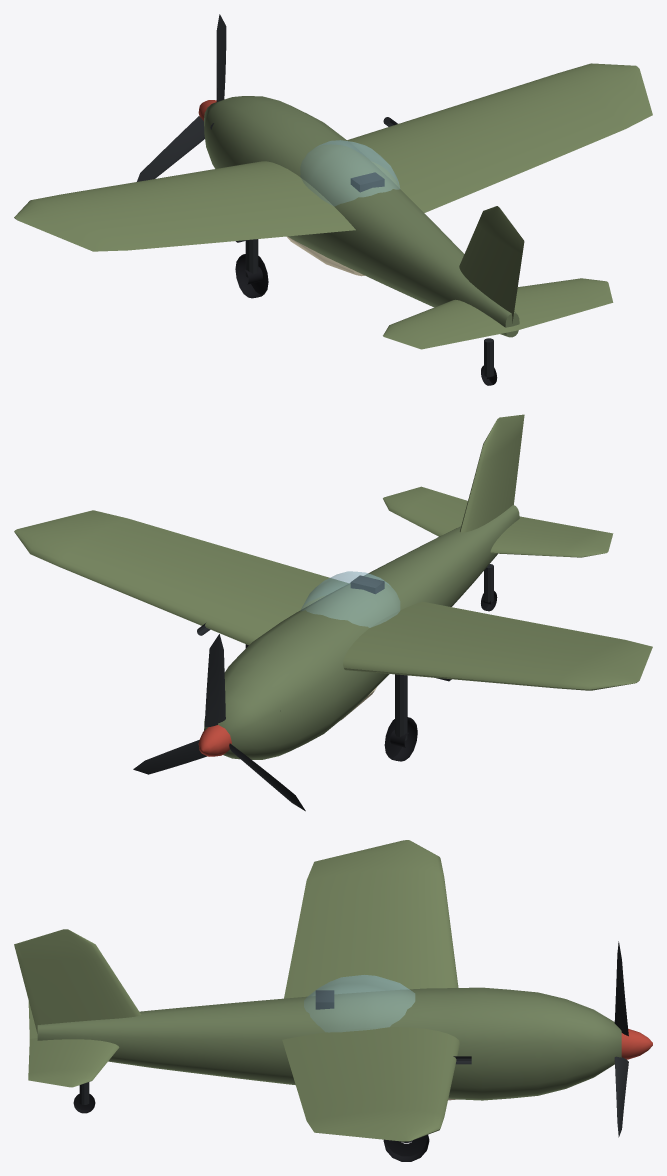
The model's file is sparrow.glb.
3 views of the same model, one above another, from view 1: azimuth 30°, elevation 25°; view 2: azimuth 150°, elevation 25°; view 3: azimuth 270°, elevation 25° (orthographic).
Parts seen in each view (by area): view 1: AIRFRAME, HULL, GLASS, PROP_0; view 2: AIRFRAME, HULL, PROP_0, GLASS; view 3: AIRFRAME, HULL, GLASS, PROP_0.
Part boxes in pixels (x1,y1,x2,y2): AIRFRAME: (14,63,652,385); HULL: (204,96,519,337); GLASS: (300,140,399,206); PROP_0: (137,14,226,181); AIRFRAME: (14,414,652,761); HULL: (204,505,519,759); PROP_0: (133,634,305,811); GLASS: (300,571,399,627); AIRFRAME: (14,840,471,1161); HULL: (37,987,621,1100); GLASS: (304,975,414,1032); PROP_0: (614,941,652,1137).
Bounding box in the file's own units: 10 × 3.02 × 8.97.
